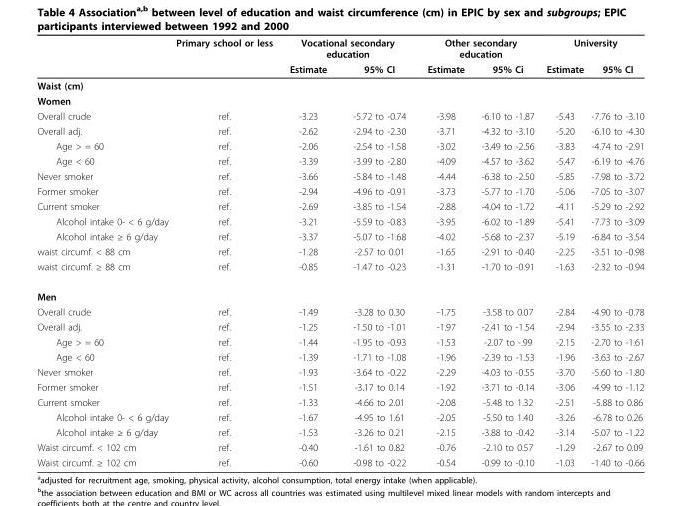table: (36, 36, 643, 467)
table column: (36, 36, 171, 467), (171, 36, 280, 467), (339, 36, 415, 467), (472, 36, 539, 467), (280, 36, 339, 467), (415, 36, 472, 467), (586, 36, 643, 467), (539, 36, 586, 467)
table column header: (36, 36, 643, 77)
table projected row header: (36, 281, 643, 303), (36, 92, 643, 108), (36, 77, 643, 92)
table row: (36, 36, 643, 61), (36, 258, 643, 281), (36, 281, 643, 303), (36, 61, 643, 77), (36, 92, 643, 108), (36, 318, 643, 334), (36, 77, 643, 92), (36, 108, 643, 123), (36, 123, 643, 138), (36, 138, 643, 153), (36, 153, 643, 168), (36, 168, 643, 183), (36, 183, 643, 198), (36, 198, 643, 213), (36, 213, 643, 228), (36, 228, 643, 243), (36, 243, 643, 258), (36, 303, 643, 318), (36, 334, 643, 349), (36, 349, 643, 364), (36, 364, 643, 379), (36, 379, 643, 394), (36, 394, 643, 409), (36, 409, 643, 424), (36, 424, 643, 439), (36, 439, 643, 454), (36, 454, 643, 467)
table spanning cell: (171, 36, 280, 77), (280, 36, 415, 61), (415, 36, 539, 61), (539, 36, 643, 61)
